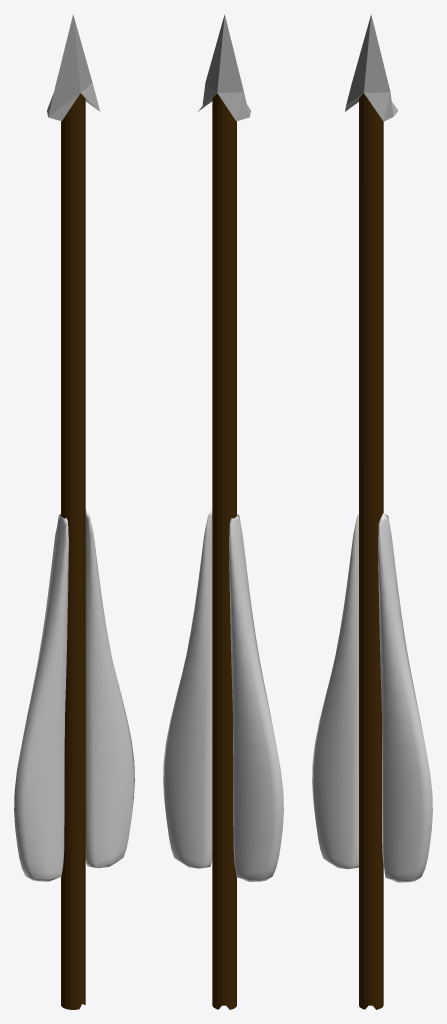
File: arrow.fbx
The picture shows the model from 3 angles, left to right: view 1: azimuth 30°, elevation 25°; view 2: azimuth 150°, elevation 25°; view 3: azimuth 330°, elevation 25°; orthographic projection.
Parts seen in each view (by area): view 1: arrow:pCylinder1, arrow:pCube1, arrow:daejang:pCube1, arrow:pPyramid1; view 2: arrow:pCylinder1, arrow:pCube1, arrow:daejang:pCube1, arrow:pPyramid1; view 3: arrow:pCylinder1, arrow:daejang:pCube1, arrow:pCube1, arrow:pPyramid1.
Boxes of the visible parts, <box> form: arrow:pCylinder1: <box>61,93,85,1009</box>; arrow:pCube1: <box>14,514,68,881</box>; arrow:daejang:pCube1: <box>85,508,134,868</box>; arrow:pPyramid1: <box>47,14,100,121</box>; arrow:pCylinder1: <box>212,93,236,1009</box>; arrow:pCube1: <box>229,514,283,881</box>; arrow:daejang:pCube1: <box>163,509,212,868</box>; arrow:pPyramid1: <box>198,14,250,121</box>; arrow:pCylinder1: <box>359,93,383,1009</box>; arrow:daejang:pCube1: <box>378,513,432,882</box>; arrow:pCube1: <box>312,514,358,869</box>; arrow:pPyramid1: <box>345,14,397,121</box>.
Bounding box in the file's own units: 11.25 × 88.12 × 2.39.
